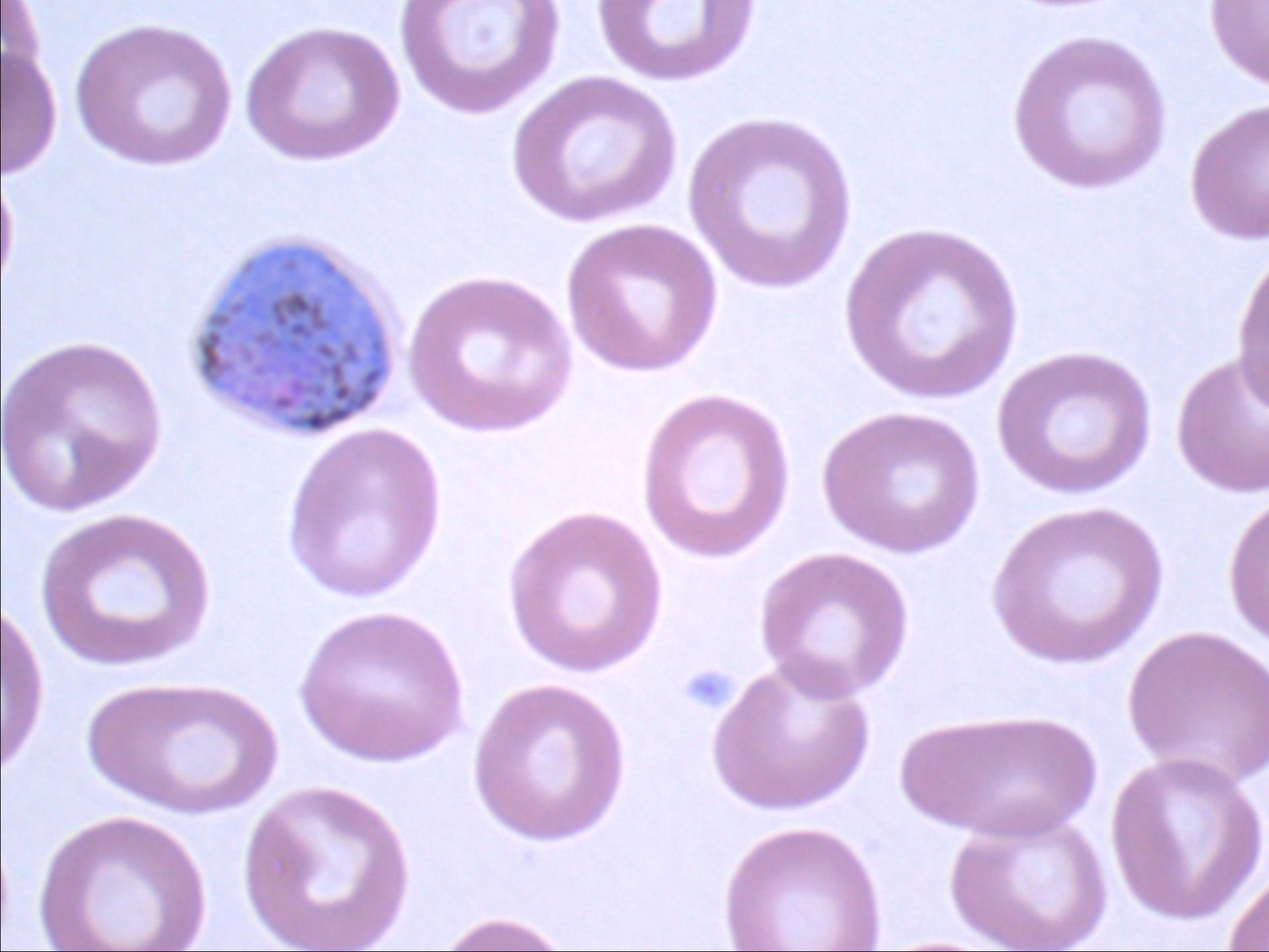Infected: (194, 232, 405, 429)
Uninfected: (842, 232, 1022, 403), (295, 615, 470, 767), (689, 122, 849, 279), (286, 428, 436, 595), (249, 790, 407, 946), (3, 346, 157, 506), (44, 516, 206, 663), (411, 281, 569, 429), (995, 512, 1153, 658), (709, 657, 864, 805), (91, 688, 272, 813), (516, 78, 672, 219), (512, 516, 657, 667), (902, 721, 1092, 834), (645, 398, 784, 552), (476, 683, 617, 834), (760, 556, 906, 699), (1112, 765, 1254, 911), (42, 821, 201, 949), (570, 227, 713, 369), (1018, 40, 1161, 182), (827, 414, 976, 550), (78, 28, 228, 161), (1130, 637, 1268, 780), (999, 357, 1145, 488), (248, 30, 397, 155), (726, 832, 878, 947), (953, 830, 1100, 945), (405, 0, 556, 110)
